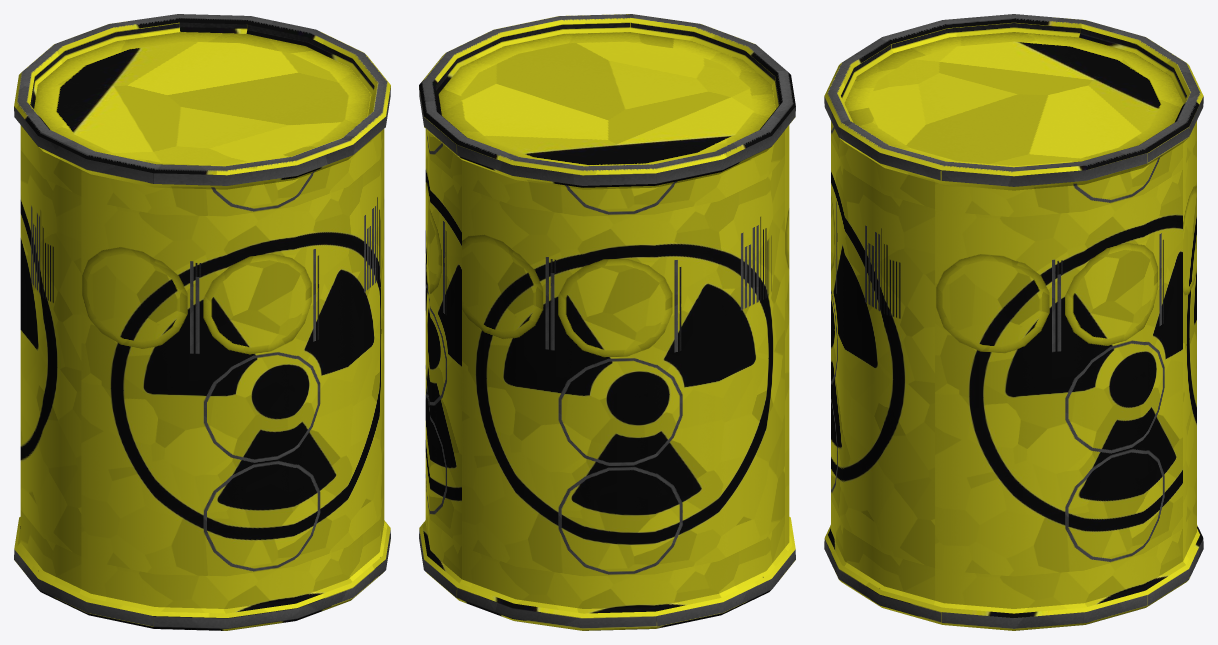
Rendered from BARRIL.fbx.
3 views of the same model, side by side, from view 1: azimuth 30°, elevation 25°; view 2: azimuth 150°, elevation 25°; view 3: azimuth 270°, elevation 25° (orthographic).
Visible parts, largest first — view 1: BARRIL_Baked; view 2: BARRIL_Baked; view 3: BARRIL_Baked.
Boxes of the visible parts, x1,y1,x2,y2 form: BARRIL_Baked: (14,14,390,630); BARRIL_Baked: (419,14,795,630); BARRIL_Baked: (824,14,1203,630).
Size of the model in its own units: 102 by 136 by 102.
Materials: 1 (1 with a texture image).
